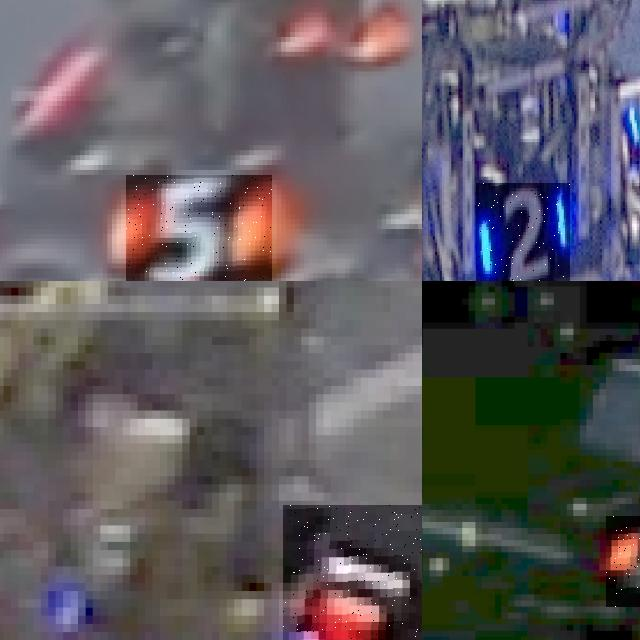B2: (476, 182, 569, 281)
R1: (282, 505, 422, 640)
R5: (125, 175, 272, 281)
Rs: (606, 516, 640, 606)
